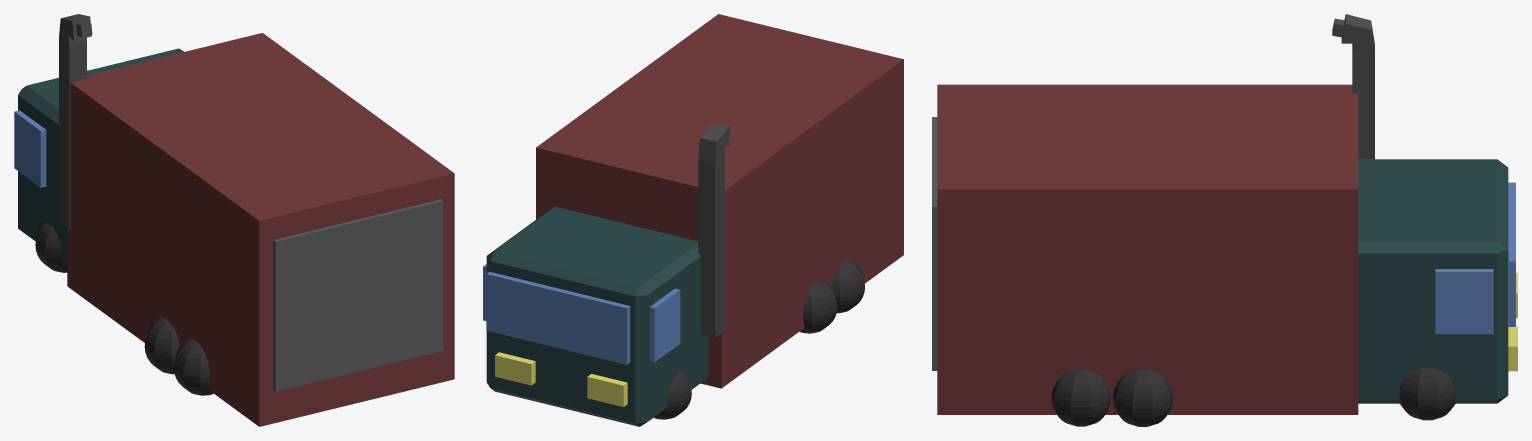
Rendered from car2.fbx.
3 views of the same model, side by side, from view 1: azimuth 30°, elevation 25°; view 2: azimuth 150°, elevation 25°; view 3: azimuth 270°, elevation 25° (orthographic). The views are drawn at different scales.
Visible parts, largest first — view 1: Cube.001, Cube.006, Cube.002, Cube.005, Cube.003, Sphere.002, Sphere.001, Sphere; view 2: Cube.001, Cube.002, Cube, Cube.005, Cube.003, Sphere.001, Sphere.002, Cube.007, Cube.008, Sphere; view 3: Cube.001, Cube.002, Cube.004, Cube.005, Sphere.003, Sphere.004, Sphere.005, Cube.006, Cube.
Boxes of the visible parts, x1,y1,x2,y2 form: Cube.001: [67, 33, 454, 426]; Cube.006: [273, 199, 443, 391]; Cube.002: [18, 48, 183, 264]; Cube.005: [59, 14, 92, 229]; Cube.003: [14, 110, 46, 187]; Sphere.002: [174, 339, 213, 395]; Sphere.001: [144, 317, 179, 374]; Sphere: [35, 222, 67, 272]; Cube.001: [536, 14, 903, 388]; Cube.002: [486, 206, 708, 426]; Cube: [486, 271, 630, 364]; Cube.005: [698, 123, 729, 337]; Cube.003: [649, 288, 680, 362]; Sphere.001: [799, 279, 837, 333]; Sphere.002: [831, 259, 864, 313]; Cube.007: [495, 352, 535, 385]; Cube.008: [587, 374, 627, 406]; Sphere: [654, 372, 691, 419]; Cube.001: [937, 84, 1358, 414]; Cube.002: [1358, 159, 1508, 403]; Cube.004: [1435, 269, 1493, 334]; Cube.005: [1332, 14, 1374, 159]; Sphere.003: [1112, 369, 1173, 426]; Sphere.004: [1051, 369, 1110, 426]; Sphere.005: [1399, 368, 1455, 420]; Cube.006: [932, 117, 937, 370]; Cube: [1507, 182, 1515, 326].
Size of the model in its own units: 272 by 320 by 546.
